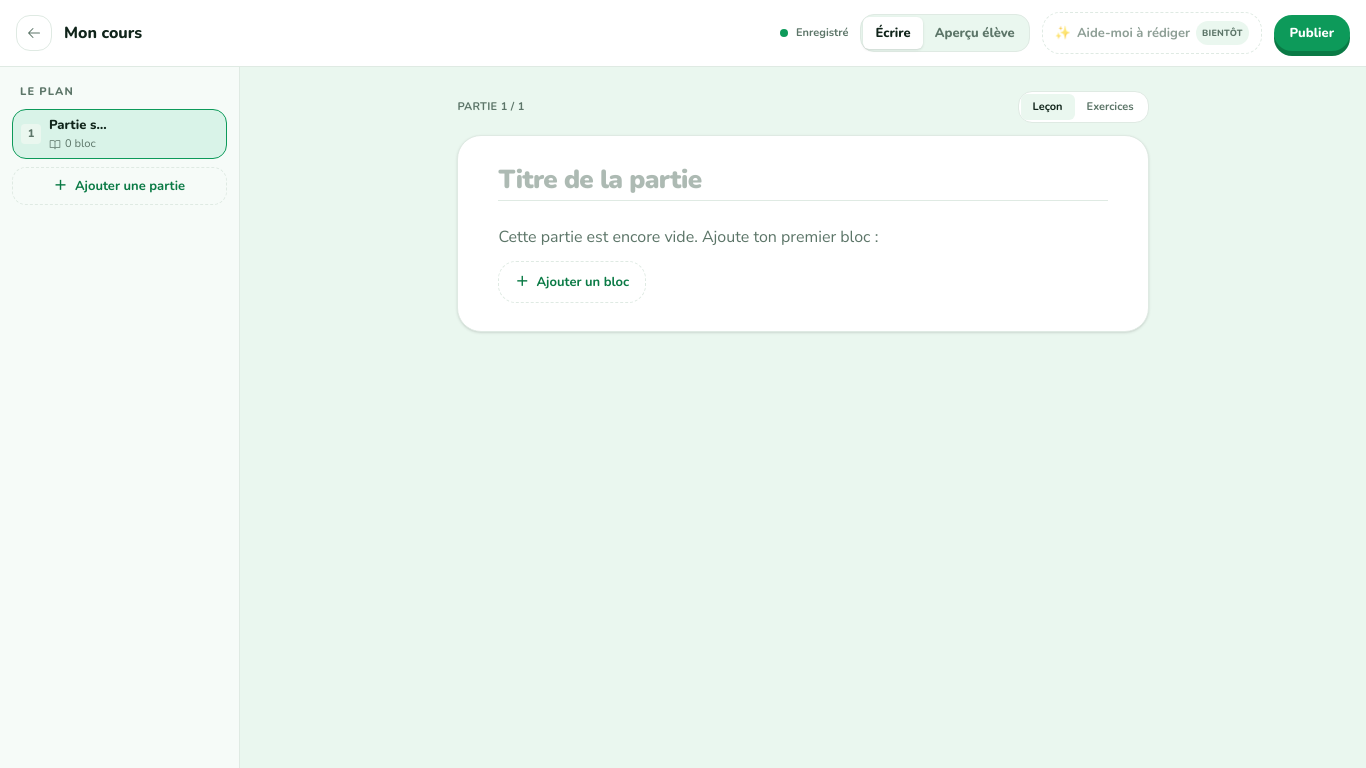
Test: EditeurCours — ajout de bloc par « + » › ferme le menu avec la touche Échap
Check: the field named "Titre du cours" is shown, box [64,21,768,45]
Click the button with aria-label "Ajouter un bloc ici". click: (572, 282)
box: [498,261,646,303]
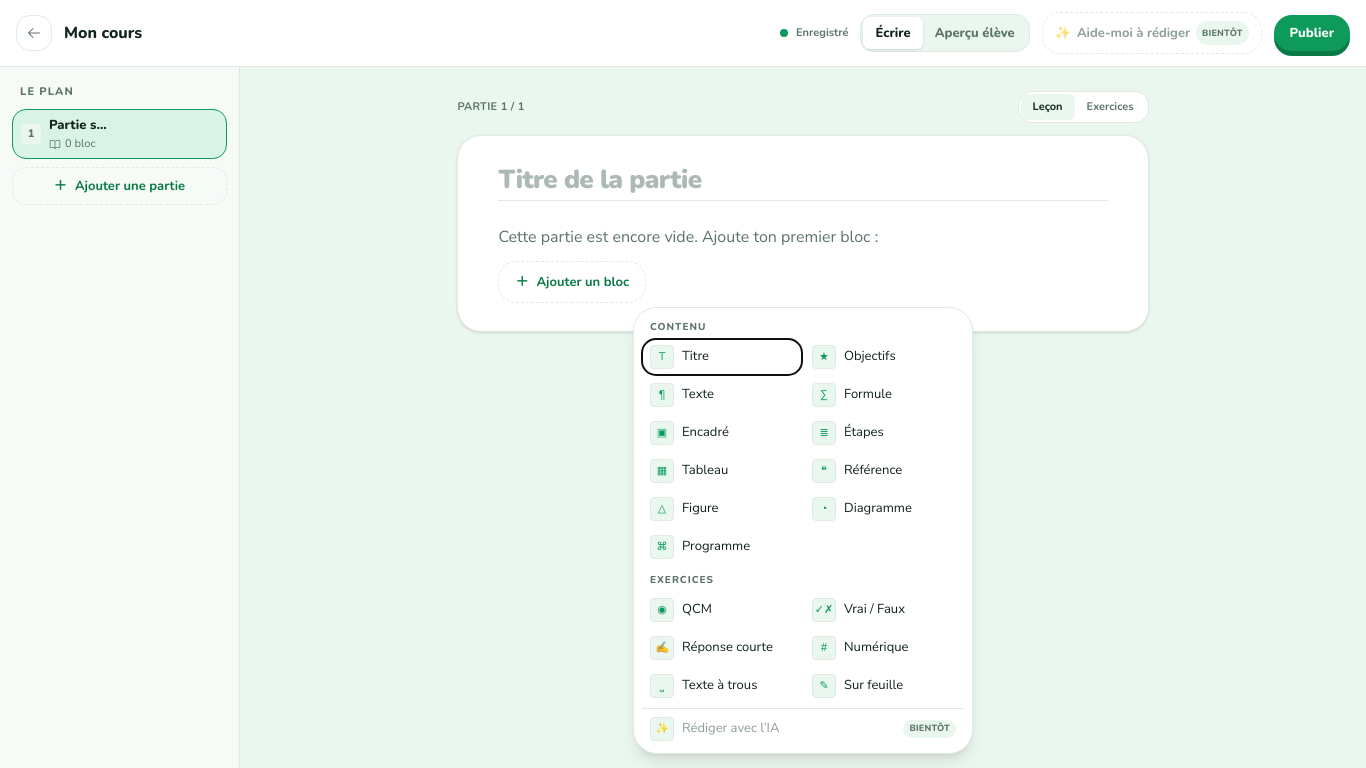
Check: the menu item "∑ Formule" is shown, box [804,377,964,413]
Press Escape
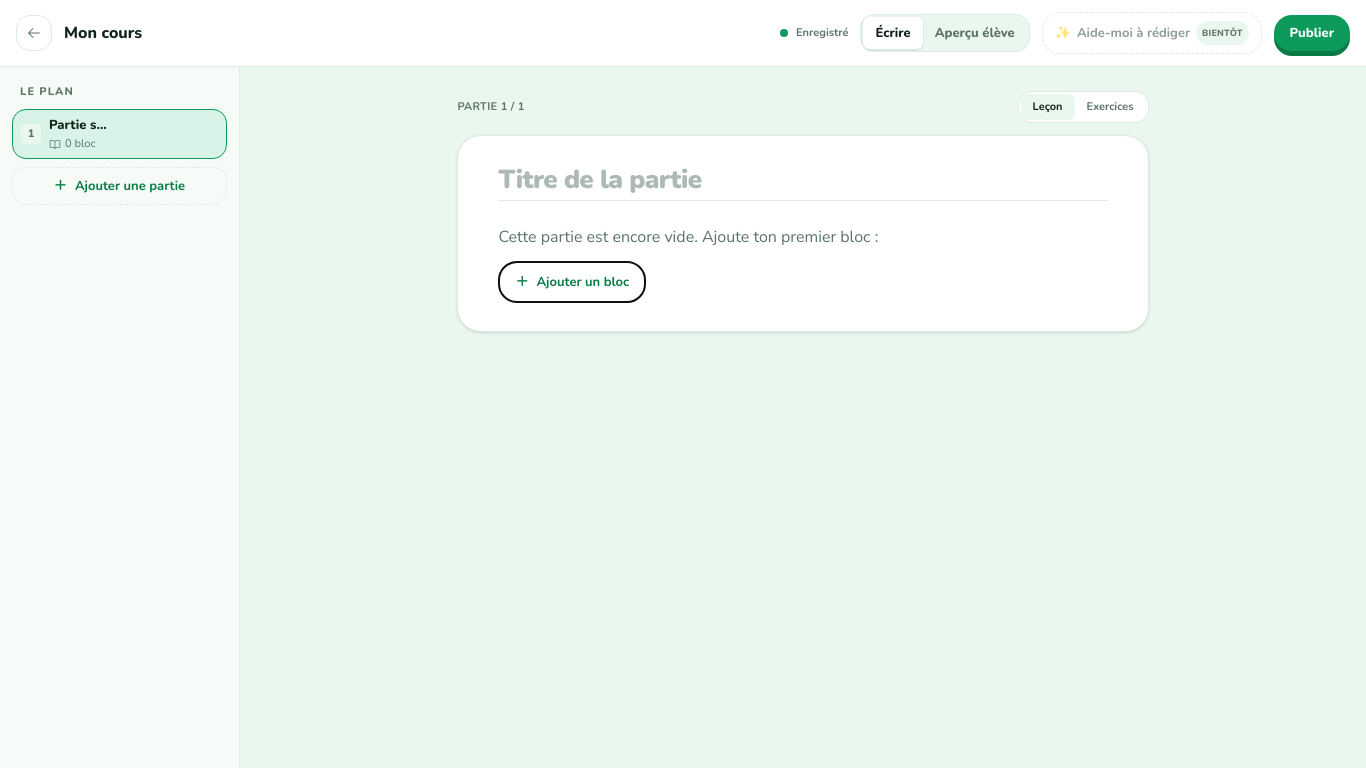
Check: the menu item "Formule" is gone
